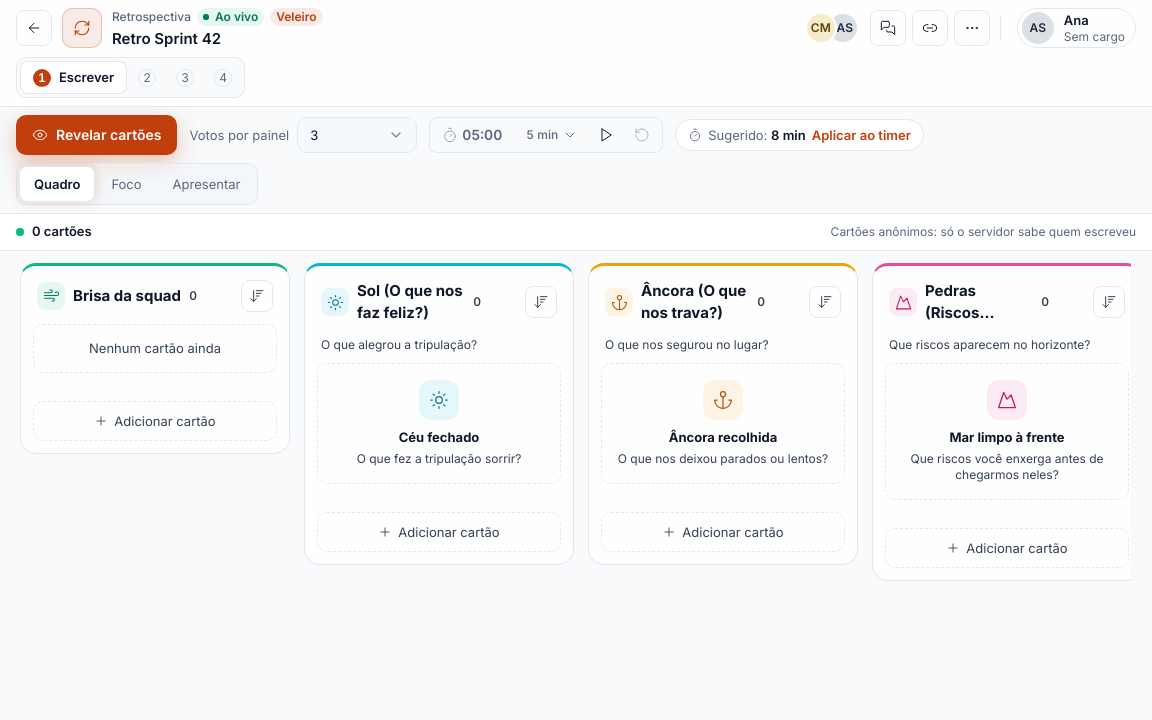
Test case: sala da Retro com cenário › coluna renomeada pelo facilitador: mantém o ícone e esconde pergunta-guia, vazio e placeholder do formato
expect the text "Nenhum cartão ainda" is shown: met, box [33,324,277,373]
Click the button "Adicionar cartão" below "Nenhum cartão ainda": (155, 421) [33,401,277,441]
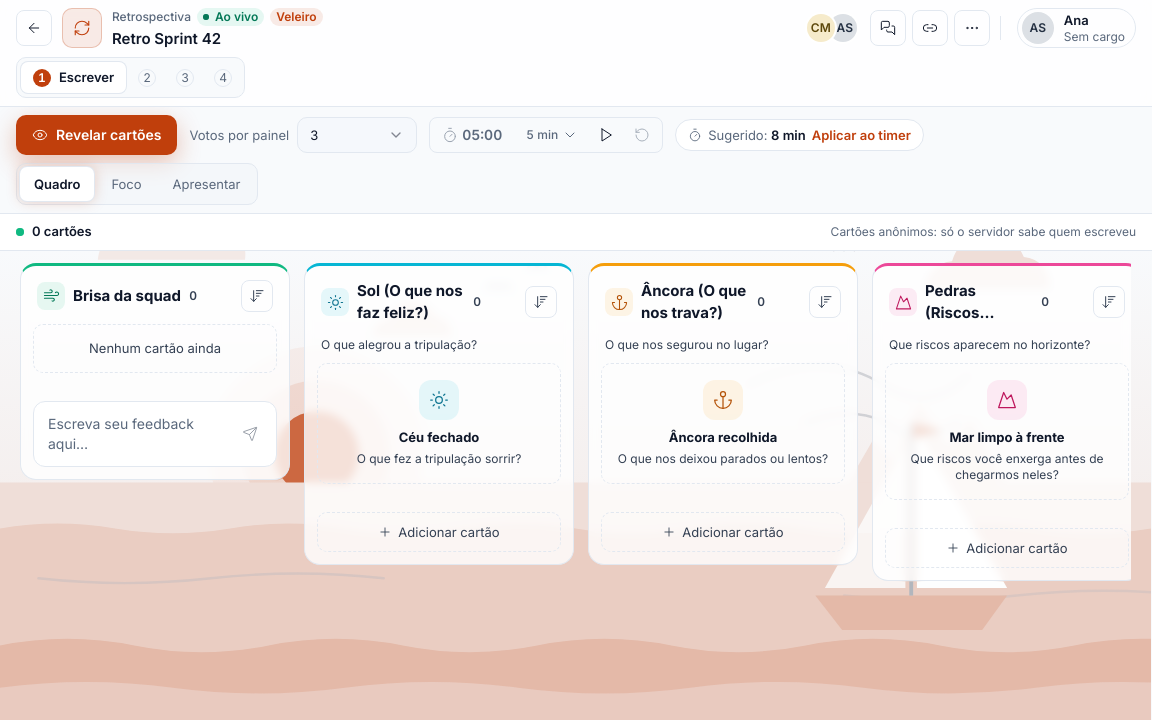
expect the text "O que alegrou a tripulação?" is shown: met, box [321,337,477,352]
expect the text box with placeholder "Escreva seu feedback aqui…" is shown: met, box [34,402,276,466]
